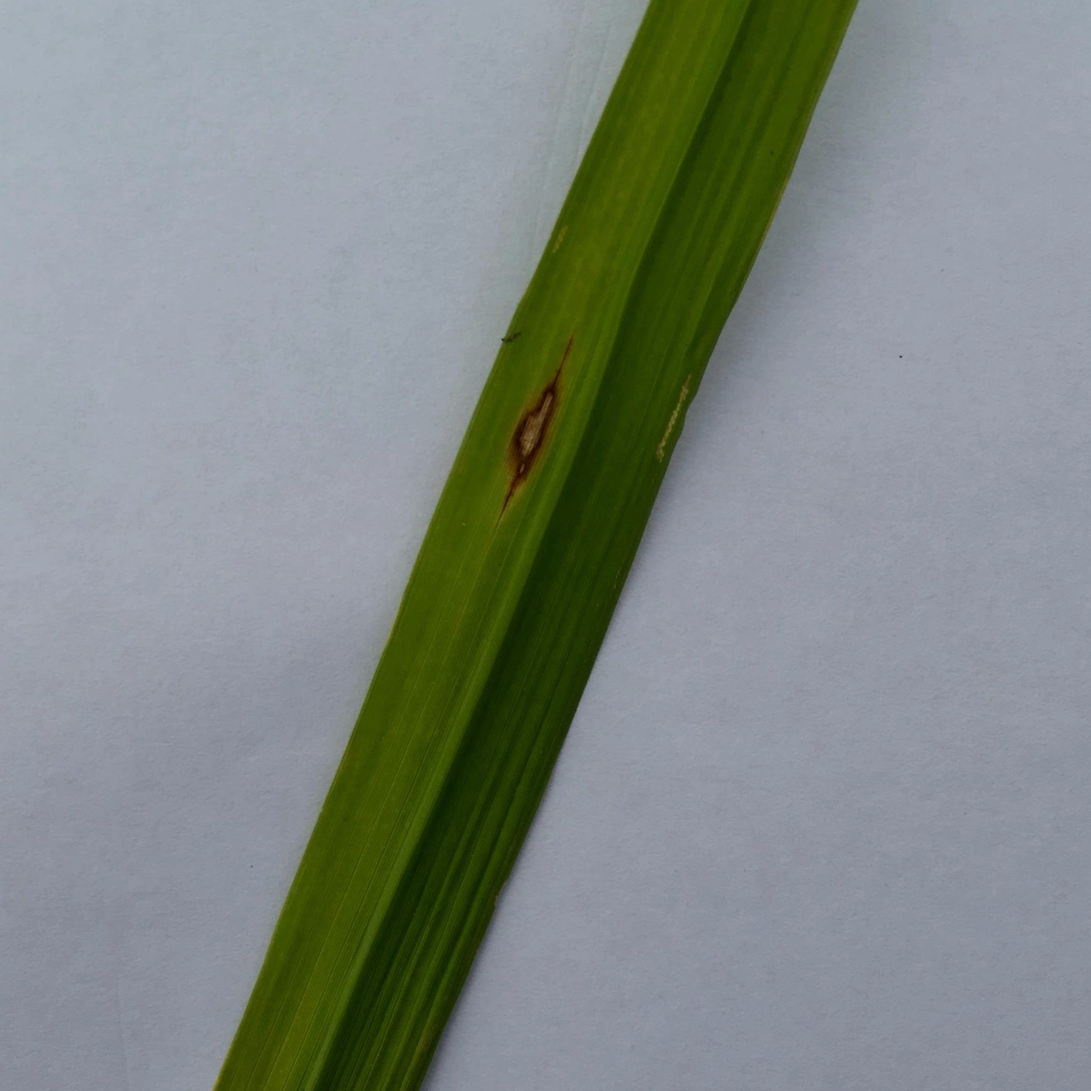Brown_Spot: (482, 321, 593, 503)
